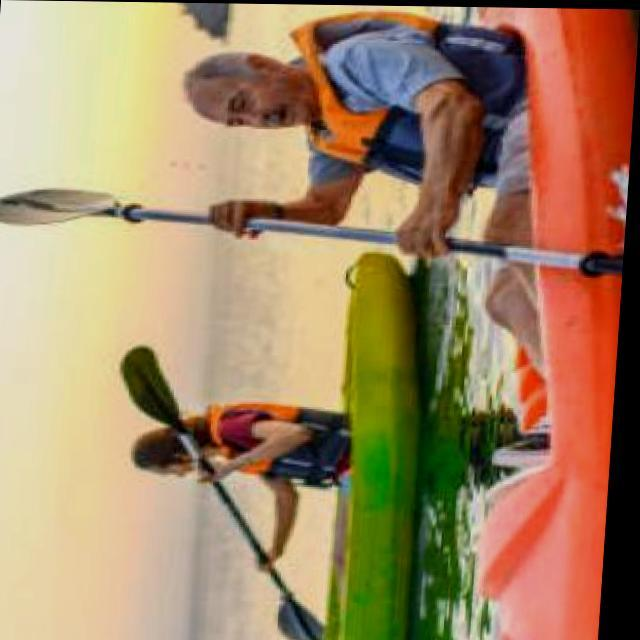kayak: (484, 264, 626, 640), (480, 6, 637, 246), (333, 254, 426, 640)
